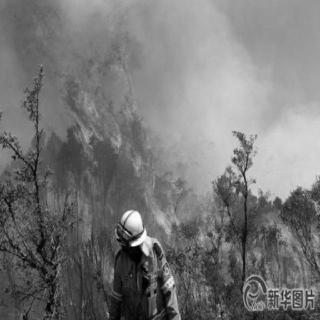Fire: (30, 10, 203, 310)
other: (114, 234, 176, 308)
